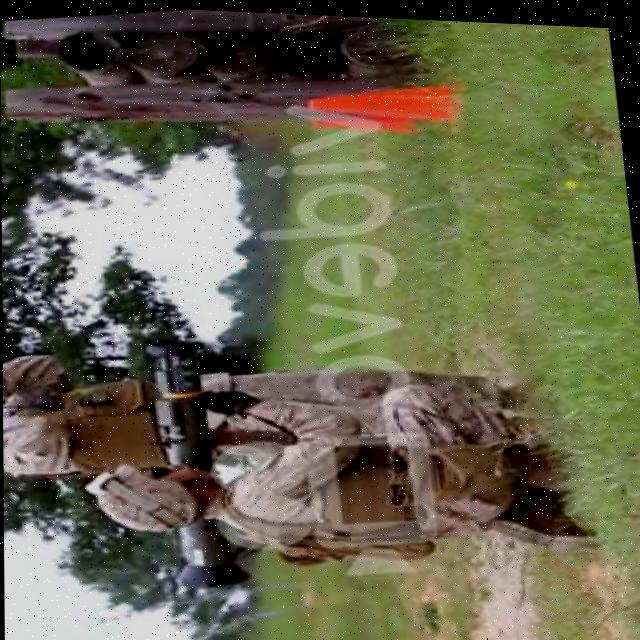rocket: (145, 332, 247, 592)
